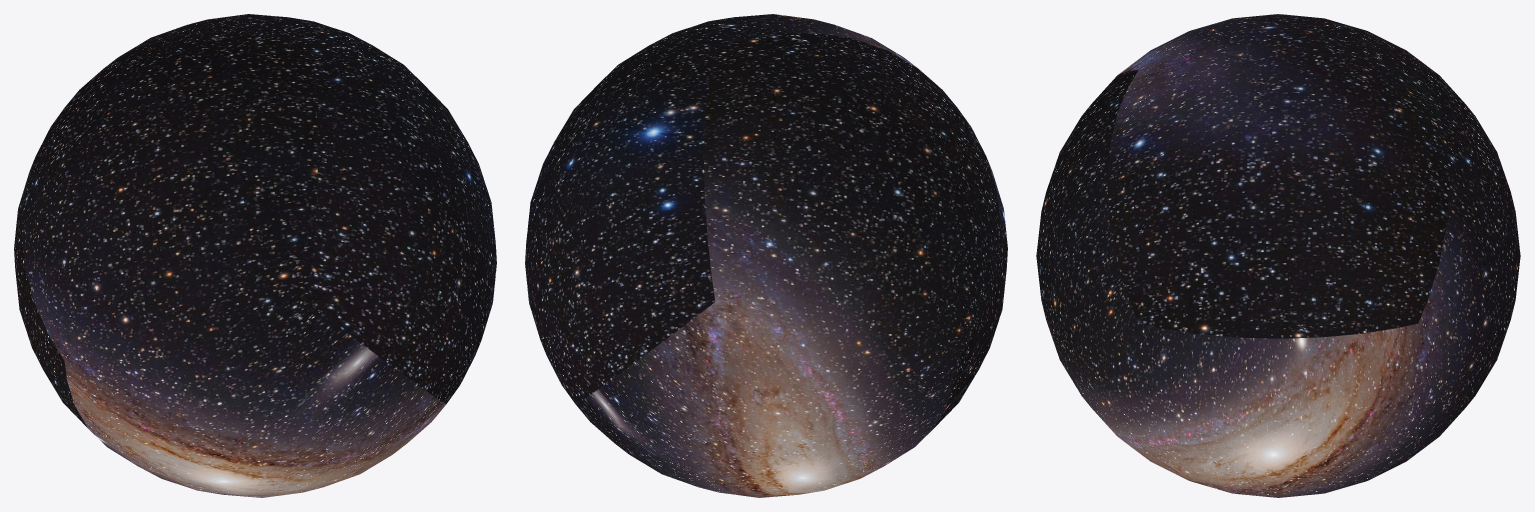
The model's file is Space_Sphere.gltf.
The picture shows the model from 3 angles, left to right: view 1: azimuth 30°, elevation 25°; view 2: azimuth 150°, elevation 25°; view 3: azimuth 270°, elevation 25°; orthographic projection.
Parts seen in each view (by area): view 1: Box001; view 2: Box001; view 3: Box001.
Boxes of the visible parts, x1=… form: Box001: x1=14, y1=14, x2=496, y2=497; Box001: x1=525, y1=14, x2=1007, y2=497; Box001: x1=1036, y1=14, x2=1520, y2=497.
Size of the model in its own units: 8.8 by 8.8 by 8.8.
